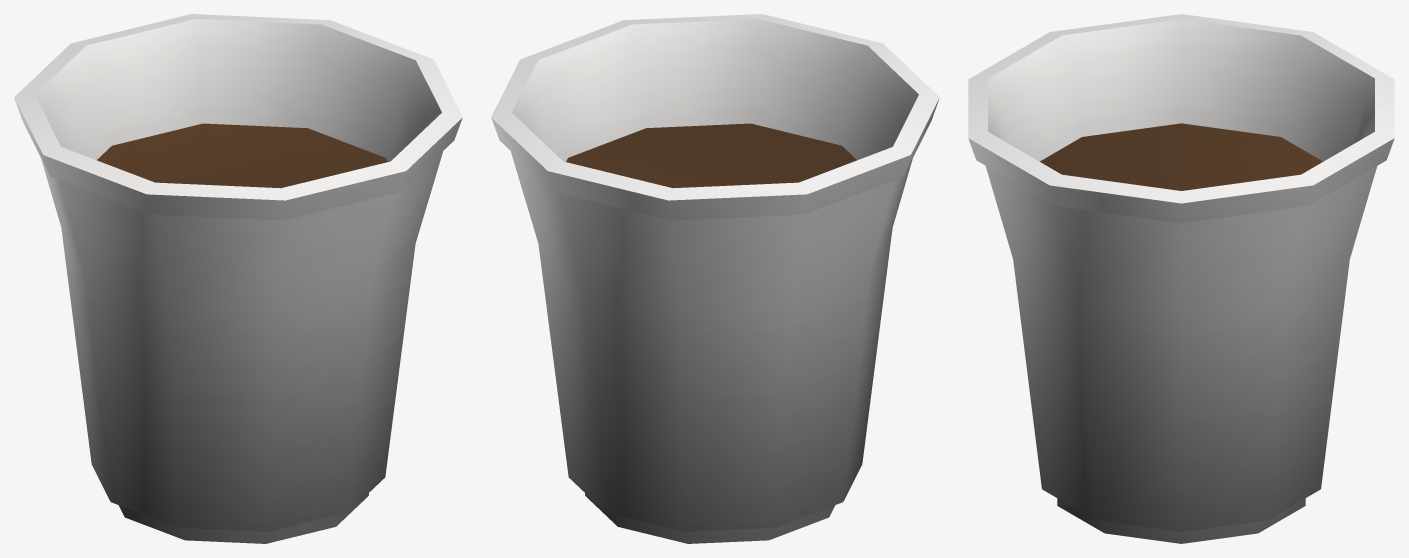
Rendered from PlantPotLargeA.fbx.
3 renders of one model, left to right at view 1: azimuth 30°, elevation 25°; view 2: azimuth 150°, elevation 25°; view 3: azimuth 270°, elevation 25°, orthographic.
Parts seen in each view (by area): view 1: PlantPotLargeA; view 2: PlantPotLargeA; view 3: PlantPotLargeA.
Part boxes in pixels (<box>): PlantPotLargeA: <box>14,14,462,543</box>; PlantPotLargeA: <box>491,14,939,543</box>; PlantPotLargeA: <box>968,14,1394,543</box>.
Bounding box in the file's own units: 38.97 × 37.01 × 37.06.
